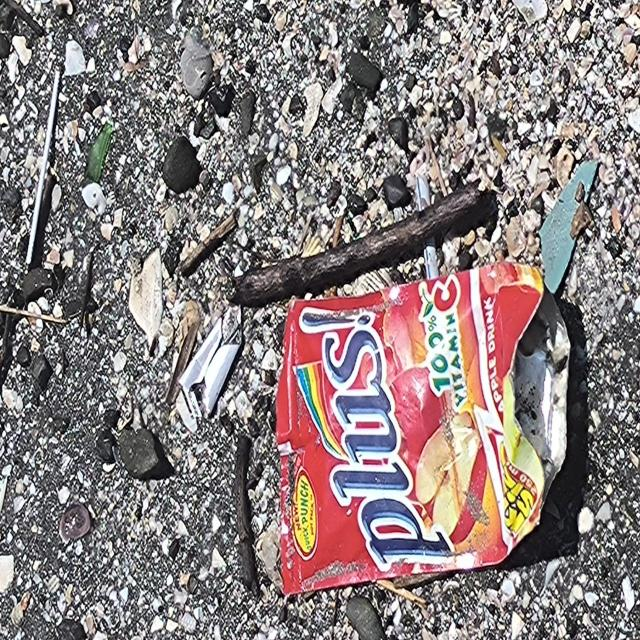plastic_waste: (275, 261, 571, 597), (25, 69, 60, 265)
